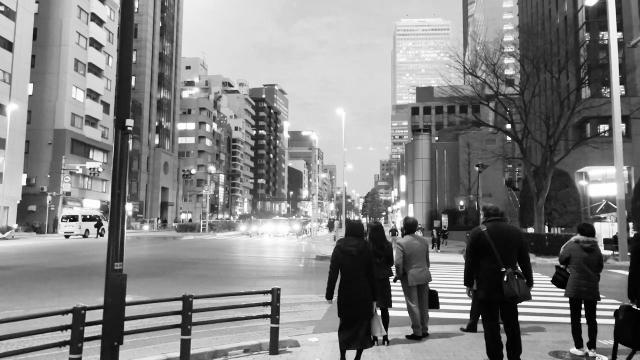berdiri: (464, 200, 534, 360), (324, 208, 390, 360), (556, 224, 604, 358), (394, 211, 440, 338)
